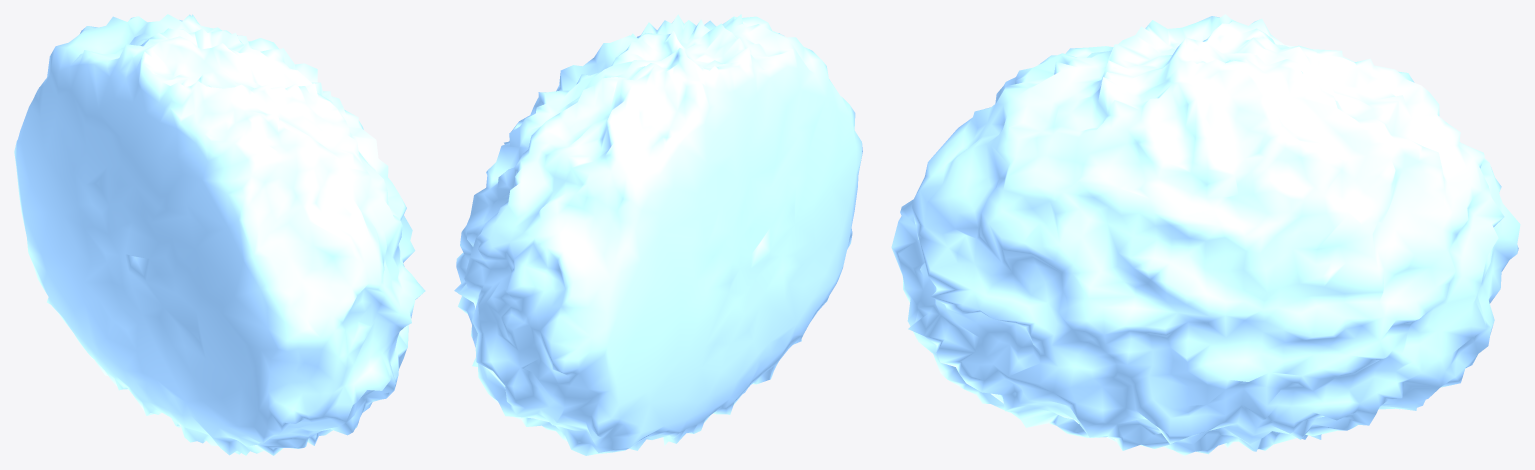
The model's file is brain_half.glb.
The picture shows the model from 3 angles, left to right: view 1: azimuth 30°, elevation 25°; view 2: azimuth 150°, elevation 25°; view 3: azimuth 270°, elevation 25°; orthographic projection. The views are drawn at different scales.
Visible parts, largest first — view 1: BrainHalf; view 2: BrainHalf; view 3: BrainHalf.
Boxes of the visible parts, x1=… form: BrainHalf: x1=14, y1=14, x2=425, y2=455; BrainHalf: x1=454, y1=14, x2=862, y2=455; BrainHalf: x1=891, y1=14, x2=1520, y2=455.
Size of the model in its own units: 0.9386 by 1.38 by 1.98.
